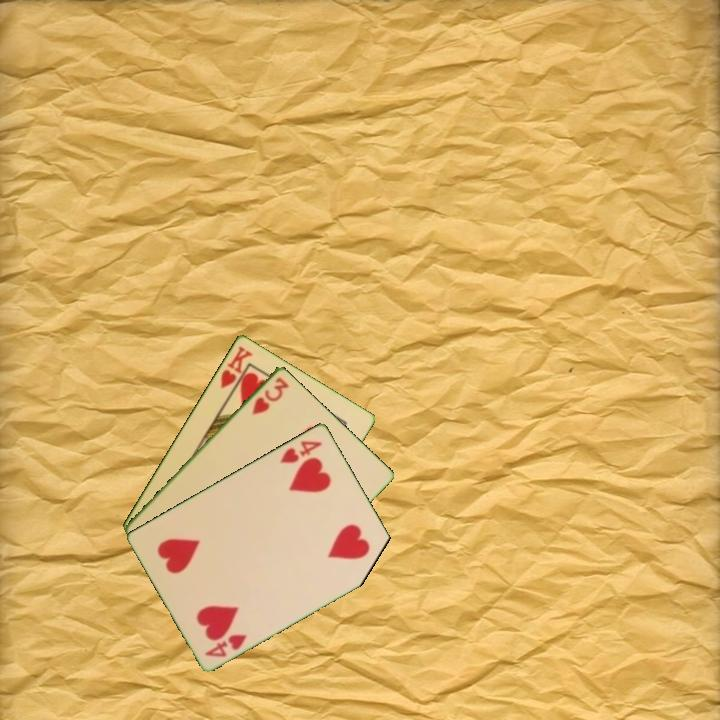3h: (249, 373, 292, 417)
4h: (276, 436, 325, 466), (201, 630, 250, 660)
Kh: (217, 342, 256, 398)
